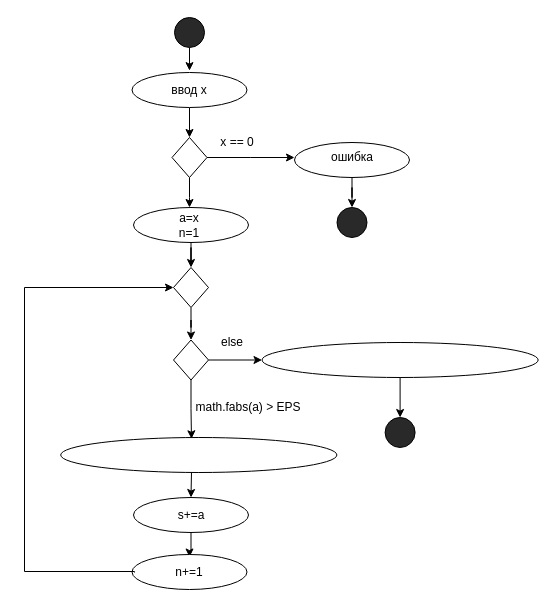
The diagram is 556 pixels wide and 607 high, and some of its shapes have lost their labels. The centre of each missing label's shape, as x and y in pixels:
a *= ((x**2) * ((2*n) + 1)) / ((((2*n) + 3)**2) * ((2*n) + 2)): (x=198, y=454)
print ( f"Es( { x } ) = { EULER + math . log ( math . fabs ( x )) + S } " ): (x=399, y=360)
